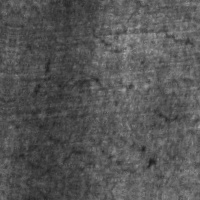crazing: (43, 14, 197, 104), (27, 127, 161, 185)
